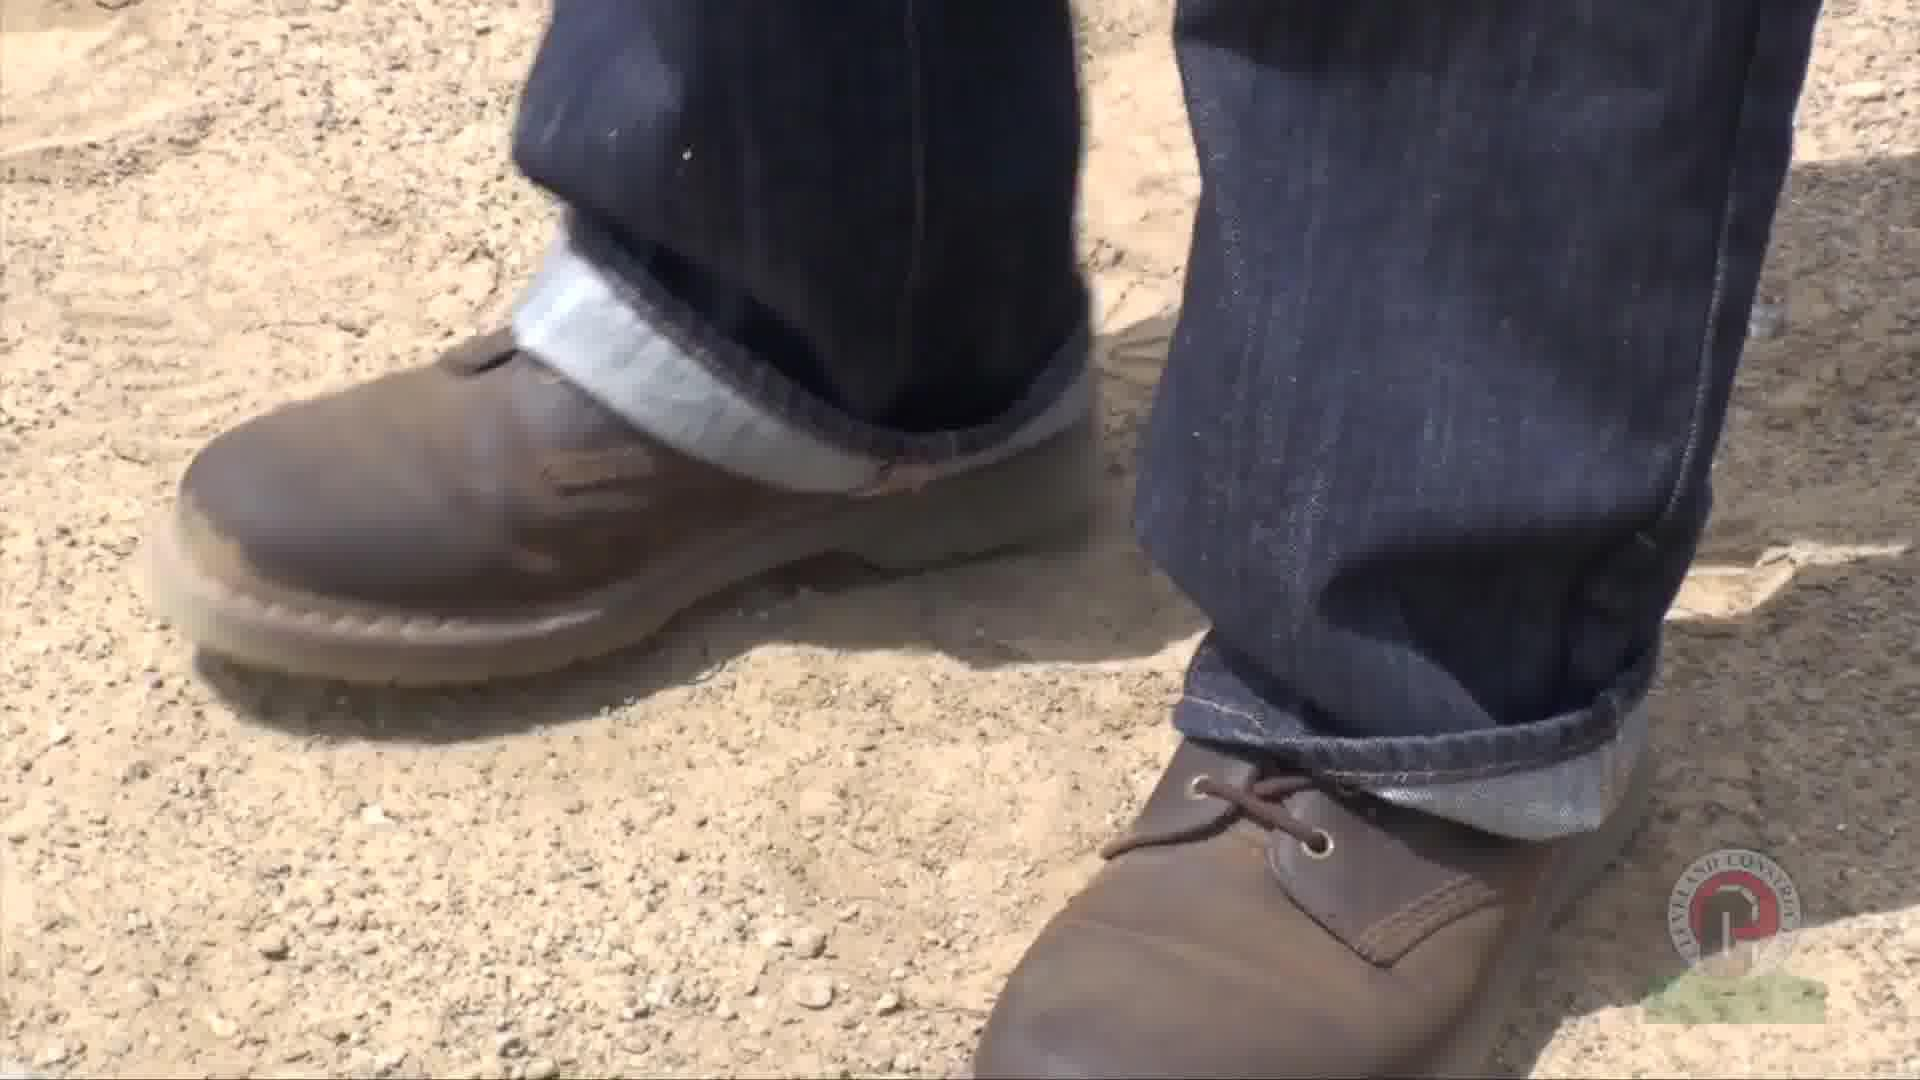safety boot: (8, 3, 1858, 1079), (32, 301, 1679, 1079)
